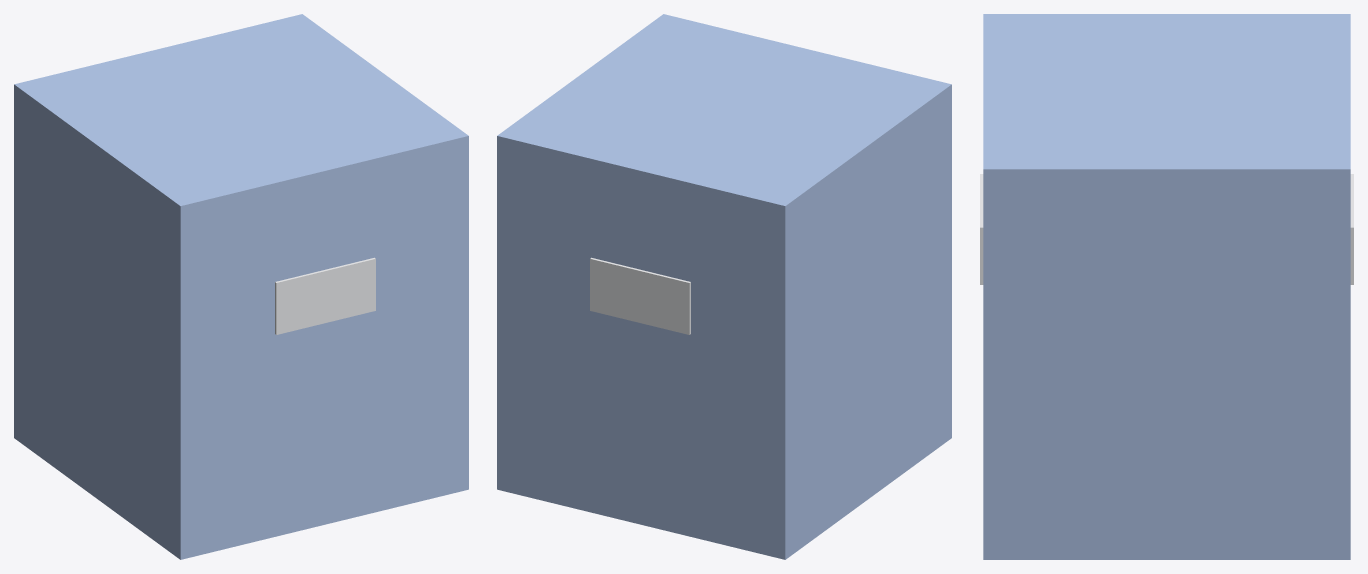
Rendered from pijama_manga_sup.glb.
The picture shows the model from 3 angles, left to right: view 1: azimuth 30°, elevation 25°; view 2: azimuth 150°, elevation 25°; view 3: azimuth 270°, elevation 25°; orthographic projection. The views are drawn at different scales.
Parts seen in each view (by area): view 1: pijama_manga_sup; view 2: pijama_manga_sup; view 3: pijama_manga_sup.
Part boxes in pixels (left/top/right/bottom): pijama_manga_sup: left=14, top=14, right=468, bottom=559; pijama_manga_sup: left=497, top=14, right=951, bottom=559; pijama_manga_sup: left=980, top=14, right=1353, bottom=559.
Bounding box in the file's own units: 0.29 × 0.34 × 0.295.
